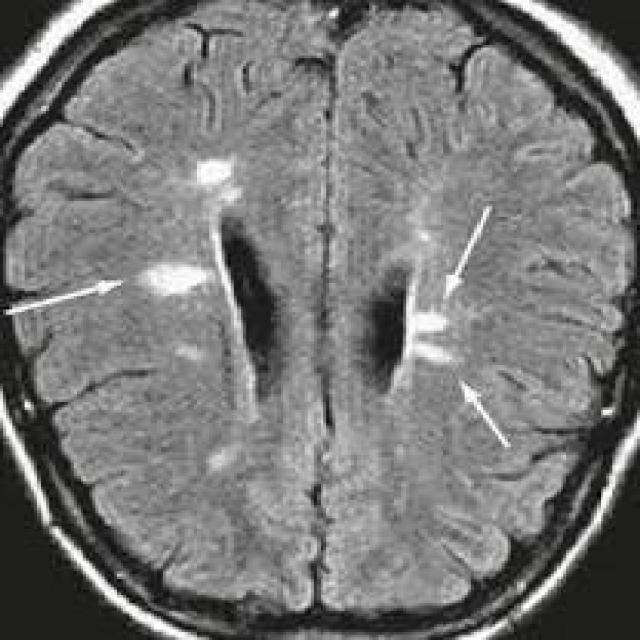notumor: (0, 0, 637, 637)
